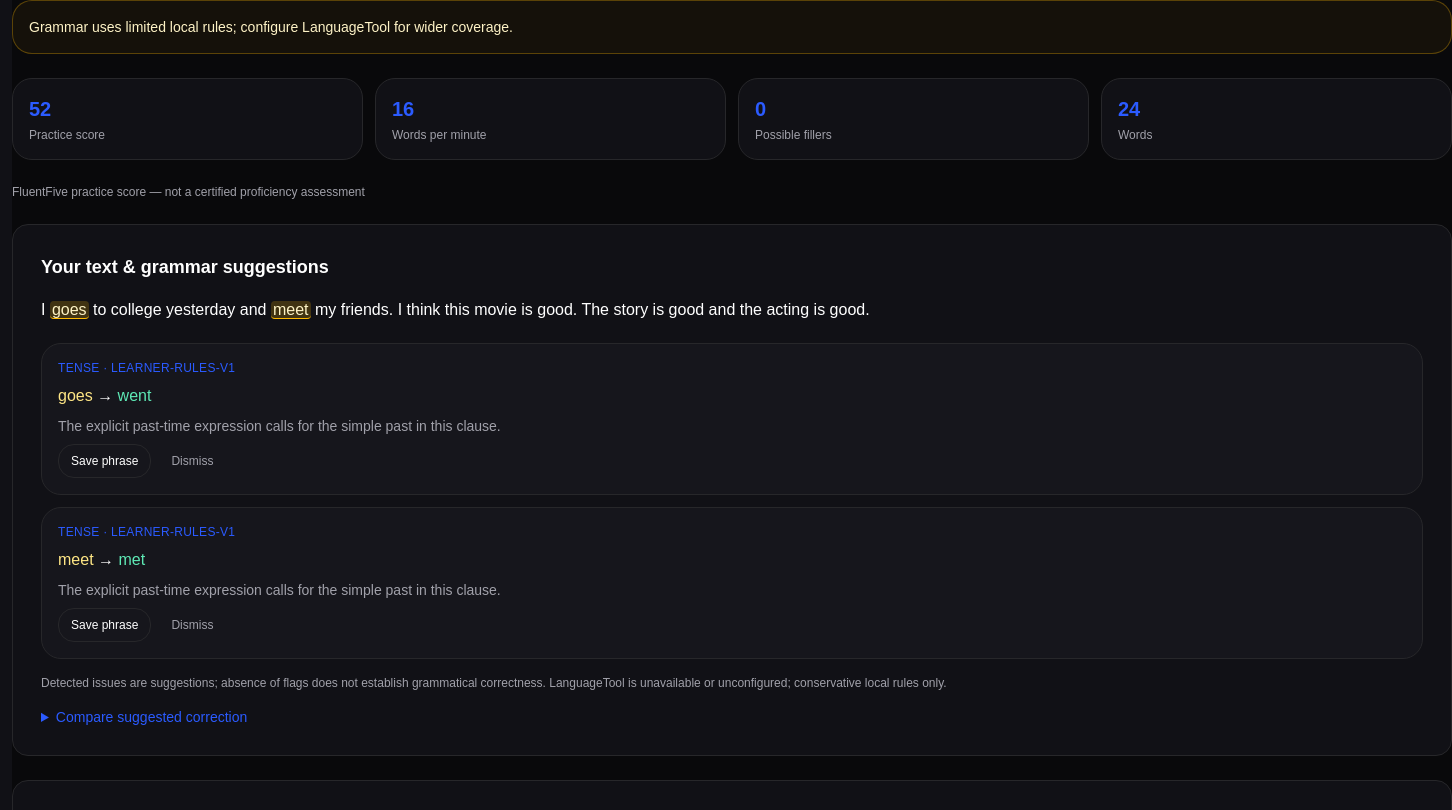
Test: analysis UI and learning signals › shows recoverable save errors
Click the button "Save phrase" below "went" at (105, 461), box [58,444,151,478]
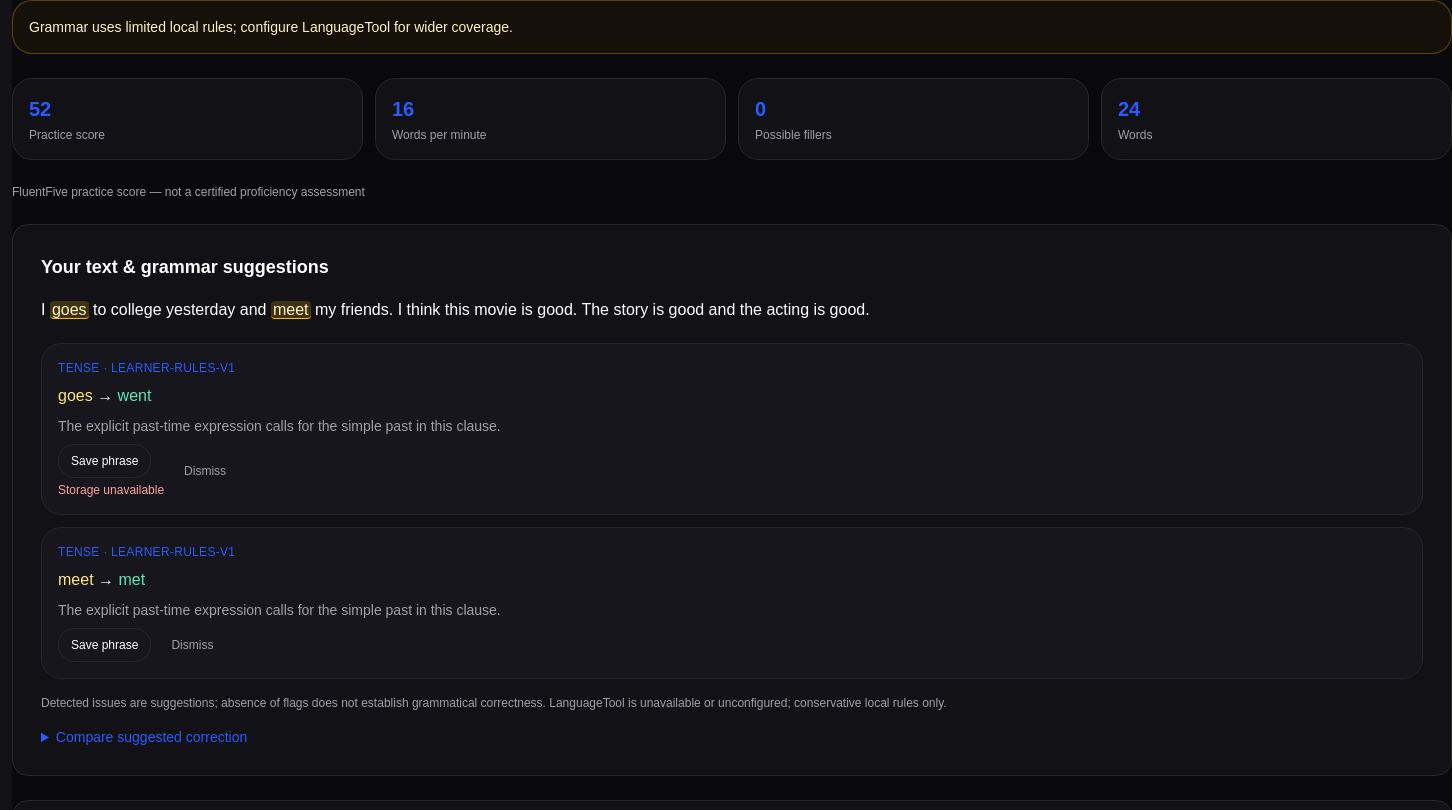
Result: the message "Storage unavailable" is shown at [58,482,164,498]
